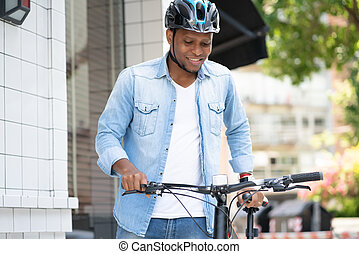helmet: (165, 1, 220, 72)
